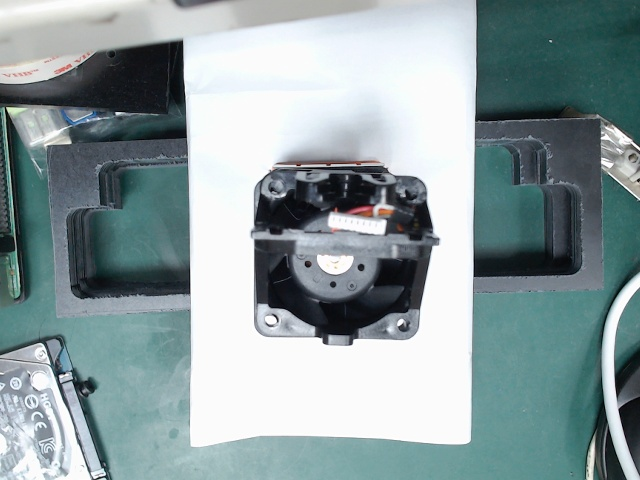Phase1_panel_missing: (229, 208, 487, 261)
Phase1_screw_missing: (233, 156, 304, 219), (239, 280, 303, 346), (377, 294, 433, 358)
